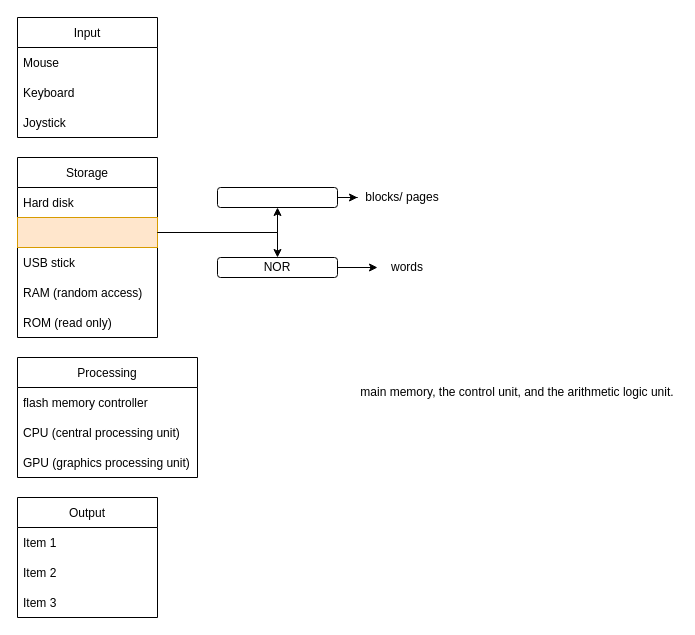
The diagram is 695 pixels wide and 635 high, and some of its shapes have lost their labels. Each missing label, with the centre of its shape:
Flash memory (ex. SSD): (x=87, y=232)
NAND: (x=277, y=197)
